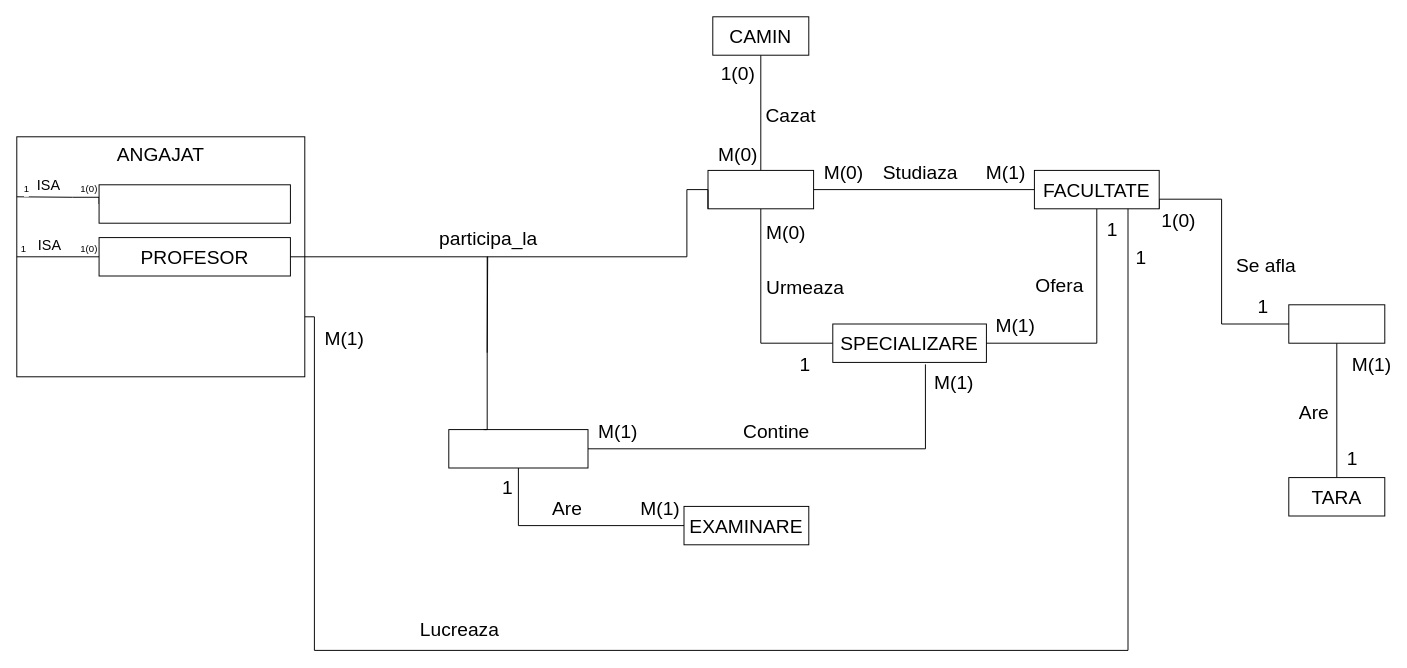
This 1407x668 diagram has some shape labels left out. The centre of each missing label's shape, as x and y in pixels:
DISCIPLINA: (x=518, y=448)
LOCATIE: (x=1336, y=323)
SECRETARA: (x=194, y=203)
STUDENT: (x=760, y=189)
